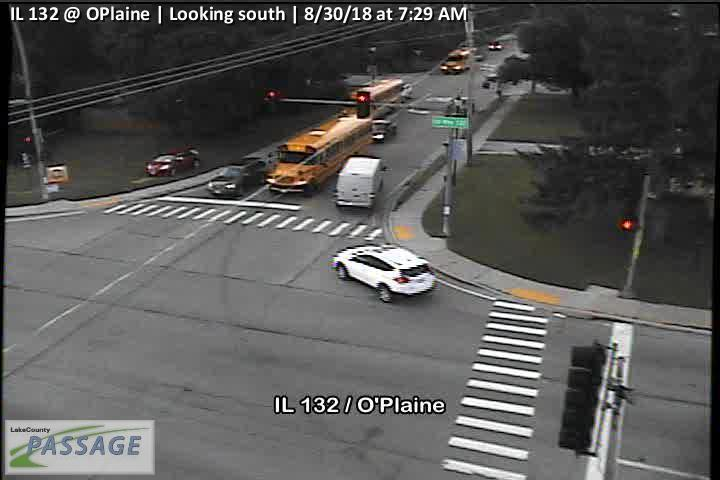Bus: (262, 115, 374, 193), (331, 75, 404, 119)
SUV: (207, 156, 266, 199)
Sedan: (330, 240, 436, 304), (142, 145, 200, 177)
Truck: (335, 149, 392, 209), (439, 45, 477, 73)
